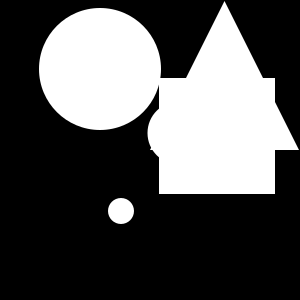circle: (159, 78, 275, 194)
rectangle: (39, 8, 161, 130), (148, 102, 210, 164), (108, 198, 134, 224)
triangle: (150, 1, 299, 150)
